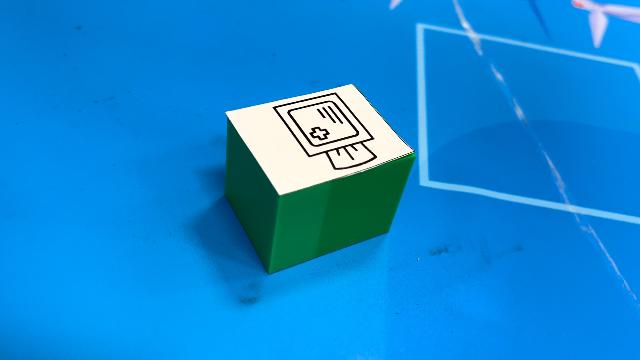napkin: (223, 84, 417, 274)
